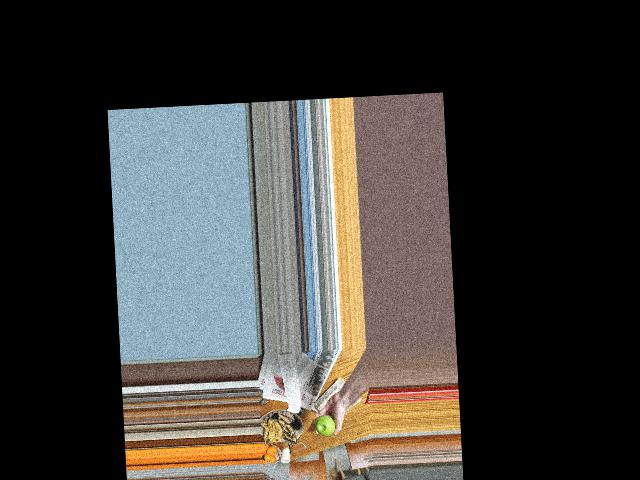apple: (312, 411, 338, 440)
